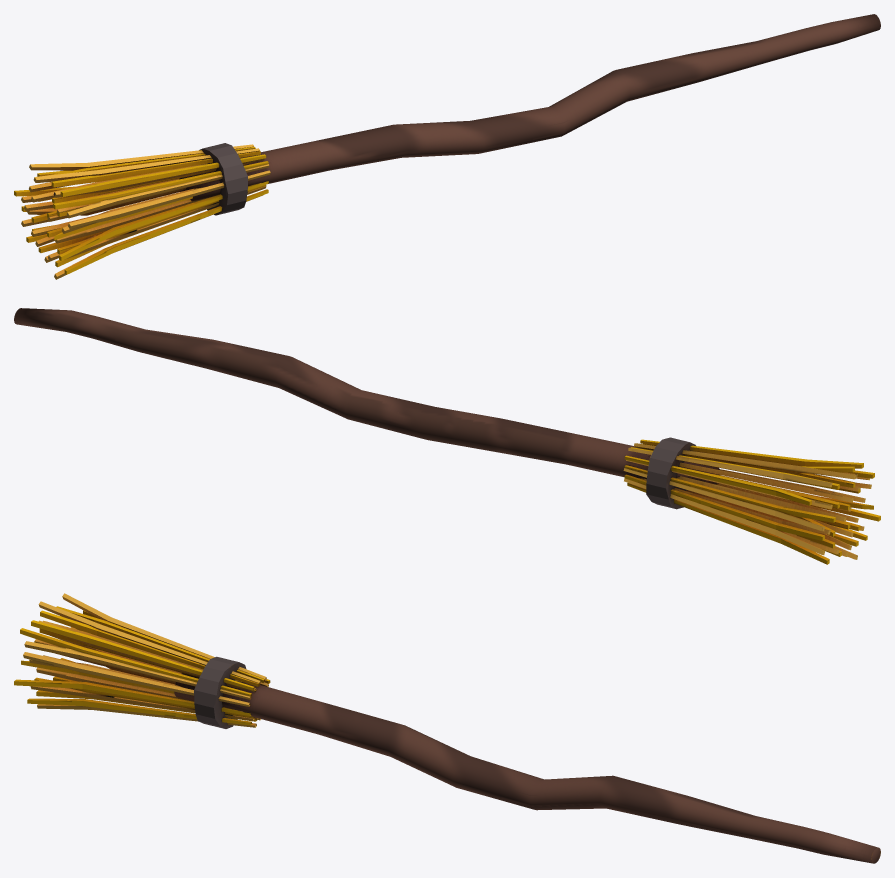
The model's file is broom.glb.
The picture shows the model from 3 angles, top to bottom: view 1: azimuth 30°, elevation 25°; view 2: azimuth 150°, elevation 25°; view 3: azimuth 330°, elevation 25°; orthographic projection.
Parts seen in each view (by area): view 1: Broom; view 2: Broom; view 3: Broom.
Boxes of the visible parts, <box> form: Broom: <box>14,14,880,279</box>; Broom: <box>14,308,880,564</box>; Broom: <box>14,593,880,863</box>.
Bounding box in the file's own units: 6.13 × 0.6727 × 0.6311.
4 materials, 4 textured.
